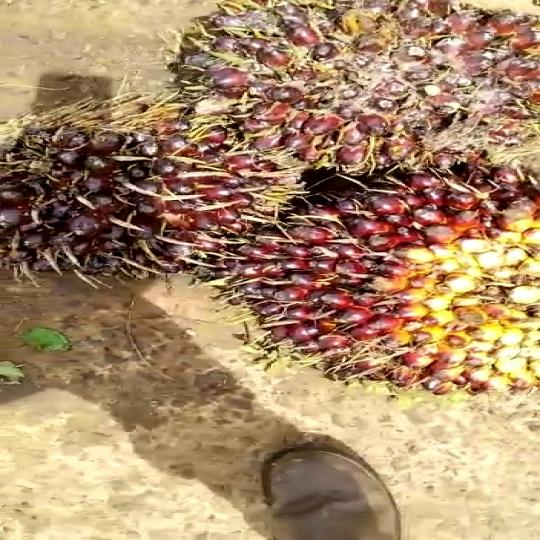kurang masak: (205, 171, 540, 404), (0, 102, 320, 325), (166, 0, 540, 172)
